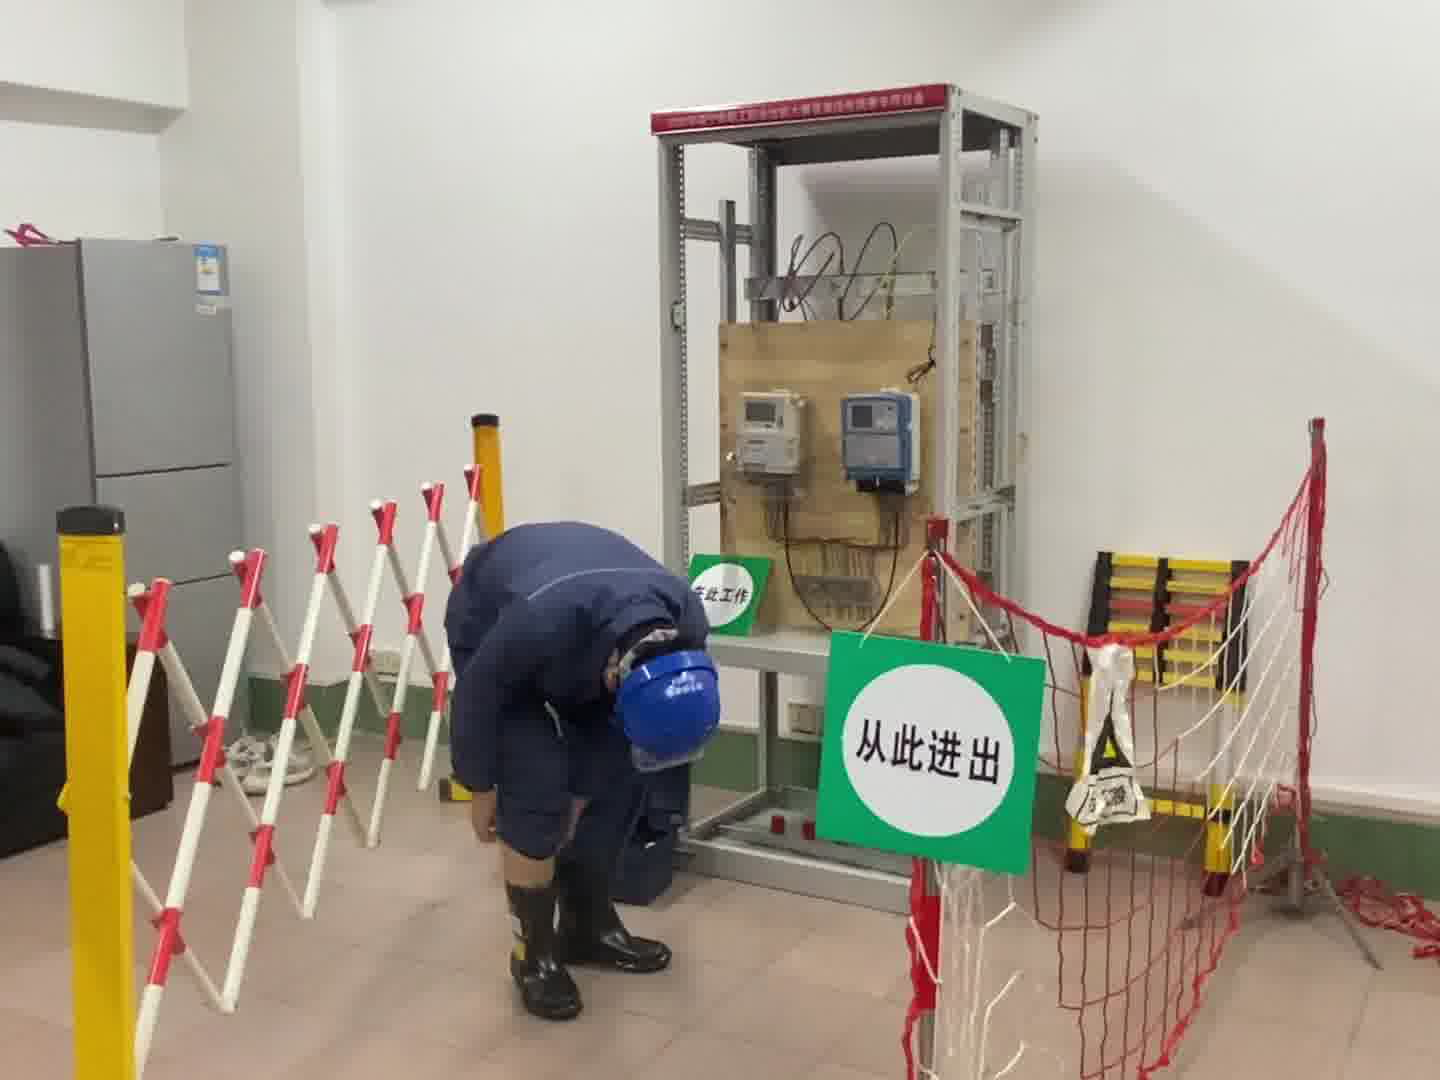downsuit: (452, 651, 656, 894)
hand: (601, 633, 720, 758), (466, 787, 500, 845)
intosign: (816, 619, 1048, 879)
person: (444, 512, 723, 1015)
shoe: (498, 882, 590, 1022), (550, 884, 682, 980)
upsuit: (447, 517, 717, 787)
worksign: (684, 547, 776, 648)
wrongbottom: (487, 792, 585, 902)
